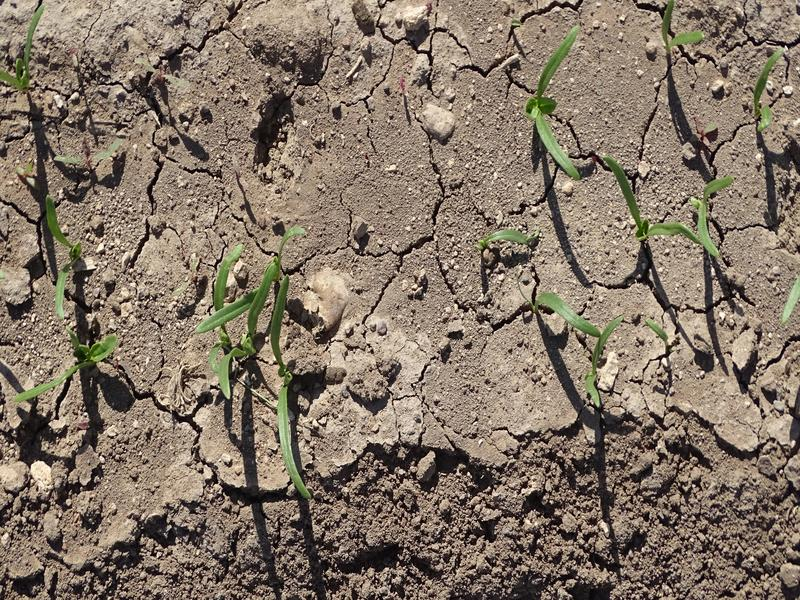Espinaca: (205, 246, 312, 499), (18, 270, 117, 401), (603, 156, 727, 258), (538, 289, 621, 406), (527, 26, 581, 181), (42, 202, 87, 267), (750, 54, 784, 128)
